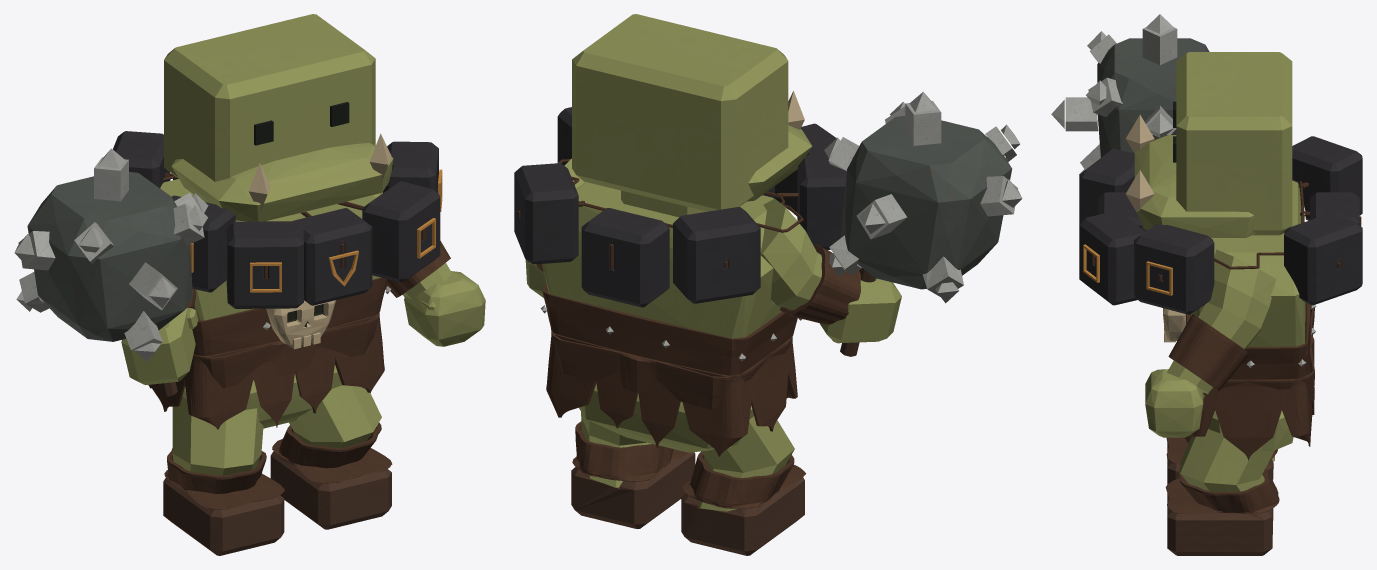
The model's file is host_26.glb.
The picture shows the model from 3 angles, left to right: view 1: azimuth 30°, elevation 25°; view 2: azimuth 150°, elevation 25°; view 3: azimuth 270°, elevation 25°; orthographic projection. The views are drawn at different scales.
Visible parts, largest first — view 1: One continuous source skull, Source irregular volumetric faceted iron mace head, Exactly five source flat-sided obsidian blocks 3, Exactly five source flat-sided obsidian blocks 1, Exactly five source flat-sided obsidian blocks 2, RIGHT source planted boot, LEFT source planted boot, RIGHT source short joined leg, Source broad continuous studded leather waist, Source fitted ragged hem, LEFT compact curled source fist, LEFT source short joined leg (+21 smaller); view 2: One continuous source skull, Source irregular volumetric faceted iron mace head, Source connected torso mass, Source broad continuous studded leather waist, Source three actual unmarked rear obsidian necklace blocks 0, Source three actual unmarked rear obsidian necklace blocks 1, Source three actual unmarked rear obsidian necklace blocks 2, Source fitted ragged hem, RIGHT source planted boot, LEFT source planted boot, RIGHT full actual connected arm, Exactly five source flat-sided obsidian blocks 4 (+19 smaller); view 3: One continuous source skull, Exactly five source flat-sided obsidian blocks 0, Source irregular volumetric faceted iron mace head, Source three actual unmarked rear obsidian necklace blocks 2, LEFT full actual connected arm, Source connected torso mass, LEFT source planted boot, Exactly five source flat-sided obsidian blocks 1, LEFT source short joined leg, Source separate broad ragged leather skirt strip 5, Source three actual unmarked rear obsidian necklace blocks 0, LEFT fitted source hollow leather bracer (+20 smaller).
Part boxes in pixels (x1=…): One continuous source skull: x1=164, y1=14, x2=393, y2=221; Source irregular volumetric faceted iron mace head: x1=27, y1=172, x2=192, y2=341; Exactly five source flat-sided obsidian blocks 3: x1=226, y1=221, x2=303, y2=308; Exactly five source flat-sided obsidian blocks 1: x1=362, y1=181, x2=440, y2=282; Exactly five source flat-sided obsidian blocks 2: x1=293, y1=208, x2=372, y2=305; RIGHT source planted boot: x1=163, y1=478, x2=284, y2=555; LEFT source planted boot: x1=270, y1=451, x2=391, y2=529; RIGHT source short joined leg: x1=172, y1=396, x2=263, y2=475; Source broad continuous studded leather waist: x1=192, y1=277, x2=387, y2=355; Source fitted ragged hem: x1=193, y1=312, x2=379, y2=387; LEFT compact curled source fist: x1=404, y1=271, x2=485, y2=346; LEFT source short joined leg: x1=289, y1=385, x2=381, y2=447; One continuous source skull: x1=572, y1=14, x2=812, y2=211; Source irregular volumetric faceted iron mace head: x1=840, y1=116, x2=1012, y2=289; Source connected torso mass: x1=542, y1=182, x2=797, y2=375; Source broad continuous studded leather waist: x1=542, y1=284, x2=797, y2=375; Source three actual unmarked rear obsidian necklace blocks 0: x1=673, y1=207, x2=760, y2=303; Source three actual unmarked rear obsidian necklace blocks 1: x1=581, y1=208, x2=669, y2=307; Source three actual unmarked rear obsidian necklace blocks 2: x1=514, y1=163, x2=578, y2=264; Source fitted ragged hem: x1=551, y1=331, x2=791, y2=409; RIGHT source planted boot: x1=681, y1=477, x2=804, y2=555; LEFT source planted boot: x1=571, y1=452, x2=695, y2=528; RIGHT full actual connected arm: x1=760, y1=198, x2=821, y2=309; Exactly five source flat-sided obsidian blocks 4: x1=797, y1=150, x2=846, y2=249; One continuous source skull: x1=1134, y1=52, x2=1292, y2=237; Exactly five source flat-sided obsidian blocks 0: x1=1134, y1=223, x2=1214, y2=314; Source irregular volumetric faceted iron mace head: x1=1097, y1=38, x2=1209, y2=157; Source three actual unmarked rear obsidian necklace blocks 2: x1=1284, y1=212, x2=1362, y2=305; LEFT full actual connected arm: x1=1167, y1=249, x2=1276, y2=393; Source connected torso mass: x1=1191, y1=180, x2=1305, y2=346; LEFT source planted boot: x1=1167, y1=494, x2=1273, y2=555; Exactly five source flat-sided obsidian blocks 1: x1=1079, y1=210, x2=1144, y2=305; LEFT source short joined leg: x1=1180, y1=429, x2=1274, y2=507; Source separate broad ragged leather skirt strip 5: x1=1213, y1=379, x2=1283, y2=460; Source three actual unmarked rear obsidian necklace blocks 0: x1=1292, y1=136, x2=1362, y2=220; LEFT fitted source hollow leather bracer: x1=1168, y1=314, x2=1249, y2=390.
Size of the model in its own units: 2.22 by 2.1 by 1.37.
Materials: 10 (8 with a texture image).
